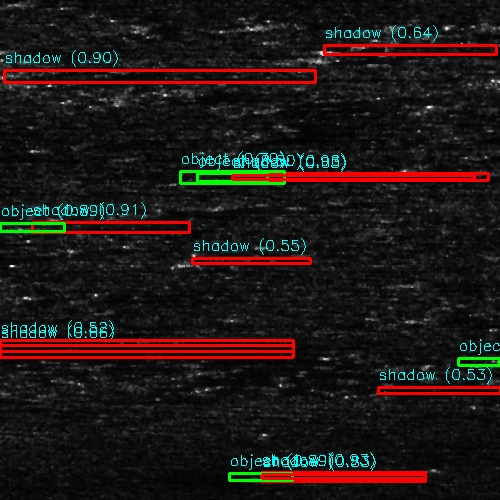rock: (239, 38, 448, 57), (0, 68, 64, 85), (183, 173, 266, 182), (0, 224, 65, 231), (165, 258, 218, 265), (247, 475, 288, 482), (447, 360, 500, 365)
shadow: (0, 68, 358, 85), (344, 38, 500, 57), (225, 173, 466, 182), (268, 475, 437, 482), (192, 258, 352, 265), (24, 224, 176, 231), (0, 314, 52, 319)
